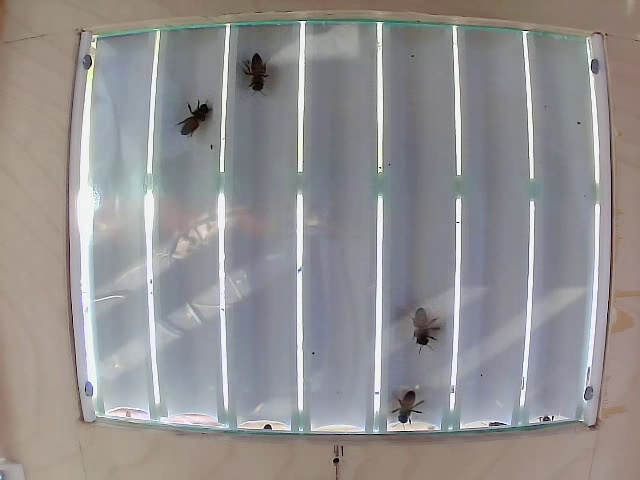bee: (405, 300, 455, 354), (392, 379, 431, 434), (240, 49, 276, 106), (174, 101, 215, 148)
